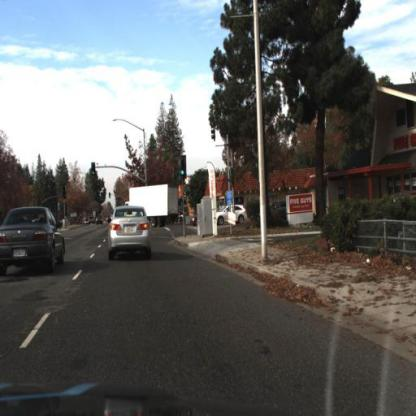car: (1, 193, 68, 294), (104, 201, 157, 266), (106, 205, 154, 261), (214, 201, 251, 227), (263, 195, 296, 221), (189, 209, 201, 235), (92, 210, 106, 230)
trafficLight-Green: (176, 162, 188, 185), (89, 160, 97, 183)
truck: (121, 181, 184, 232)
